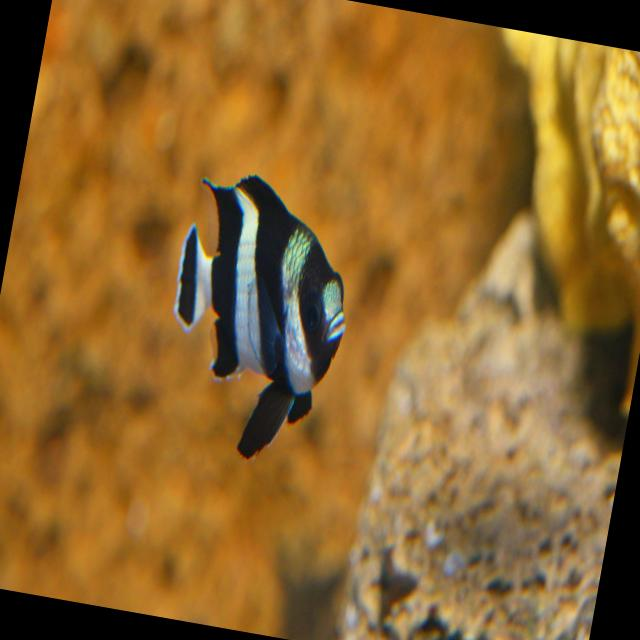ThreeStripedDamselfish: (172, 174, 345, 461)
